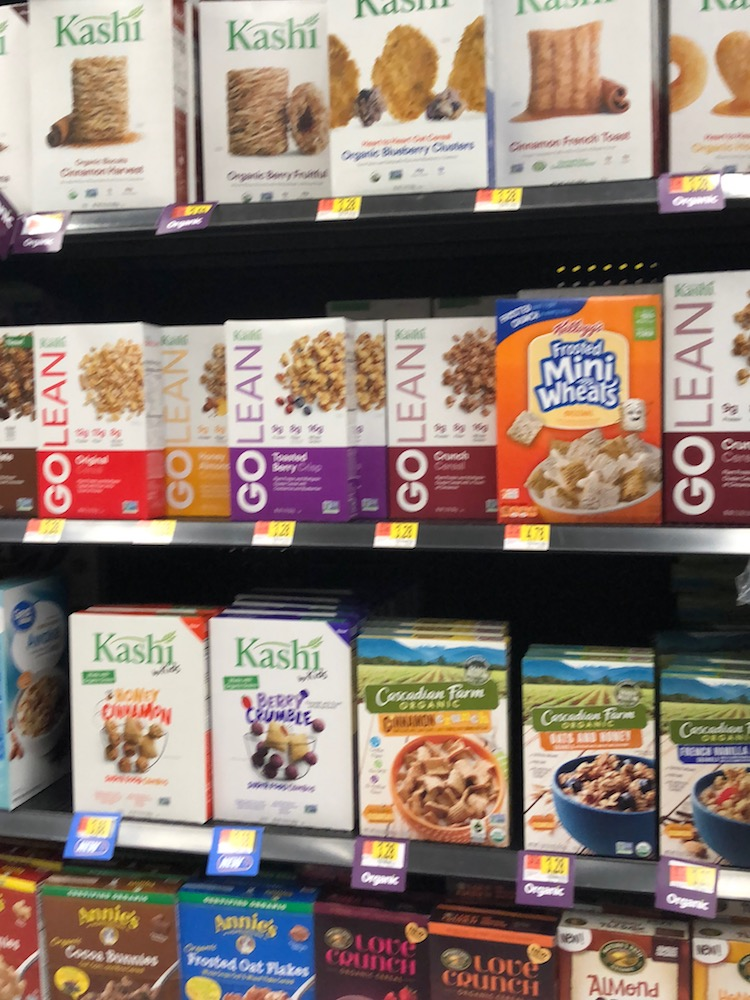Frosted Mini Original -9295869: (492, 304, 666, 528)
